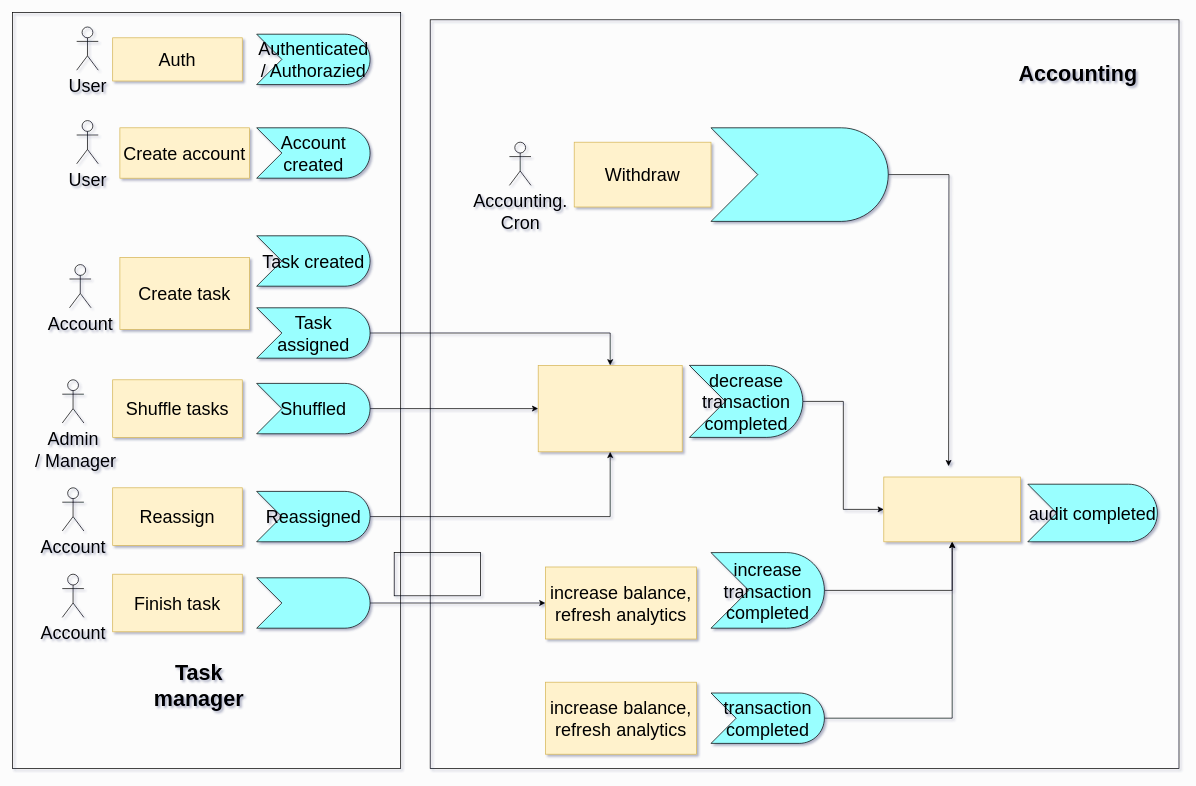
This 1196x786 diagram has some shape labels left out. Each missing label, with the centre of its shape:
decrease balance, refresh analytics: [609,408]
payment transaction completed: [799,174]
Task finished: [313,602]
Transactiion audit: [952,509]
